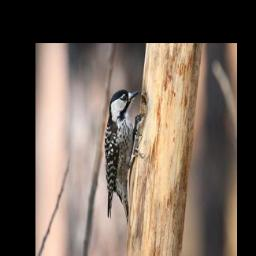Woodpecker: (106, 88, 146, 223)
